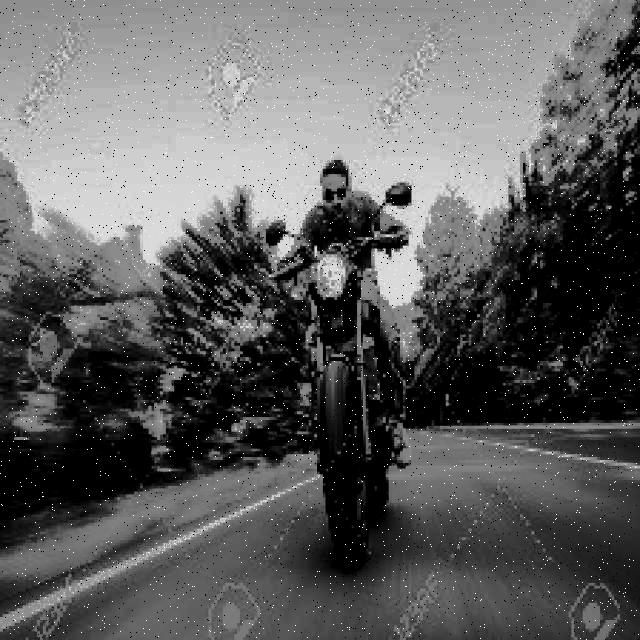Bike: (287, 222, 413, 576)
